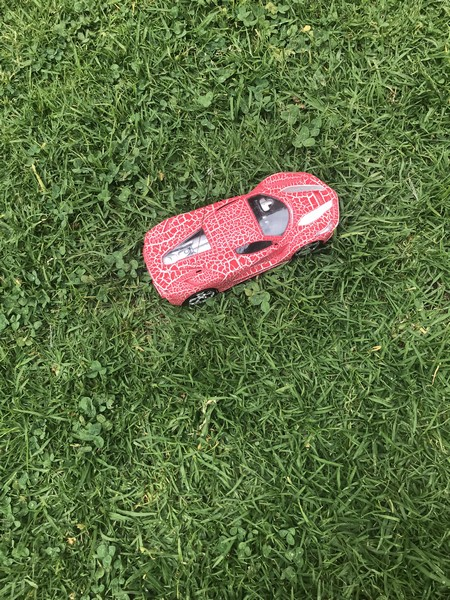RC: (141, 170, 342, 309)
